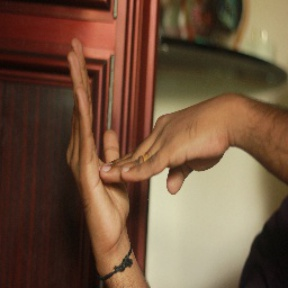Z: (54, 37, 234, 248)
